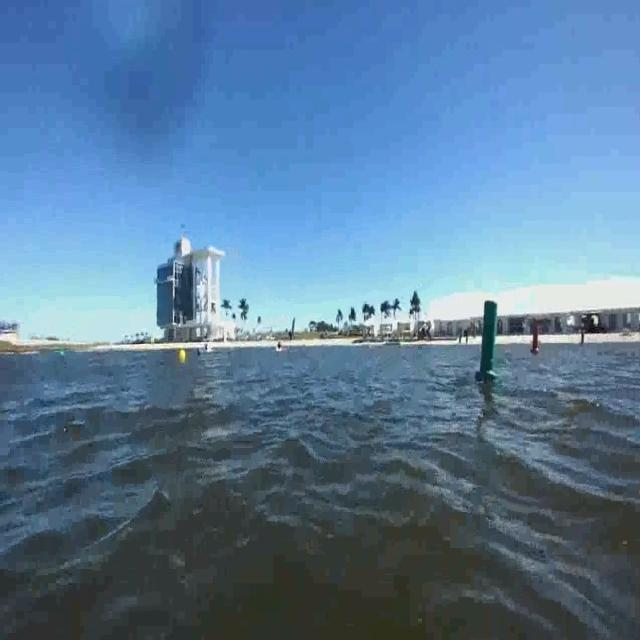green-column-buoy: (477, 296, 503, 384)
red-column-buoy: (532, 322, 545, 356)
yellow-buoy: (180, 348, 190, 366)
